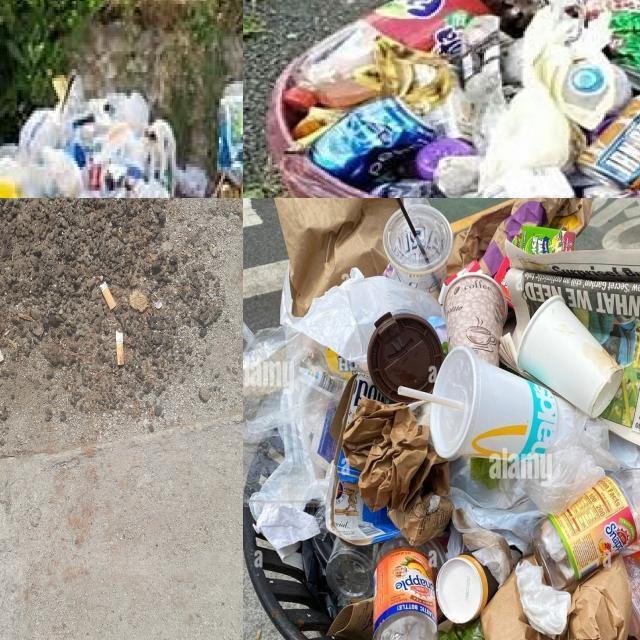Background: (0, 198, 243, 462)
Cig_bud: (99, 281, 116, 310), (116, 330, 124, 366)
Disposable: (431, 346, 587, 459), (518, 296, 622, 418), (367, 312, 444, 401), (383, 204, 453, 297), (444, 273, 507, 366), (435, 554, 498, 624), (326, 537, 375, 600)
Garbage: (243, 198, 640, 640), (283, 0, 640, 198), (0, 76, 176, 198)
Glass_bottle: (532, 470, 640, 590), (373, 539, 438, 640), (478, 0, 548, 37)
Plastic_Bag: (243, 327, 345, 555), (280, 267, 442, 366), (447, 456, 543, 584), (522, 411, 622, 513), (515, 559, 571, 637), (301, 527, 338, 619), (439, 619, 485, 640)
Plastic_Straw: (395, 198, 429, 262), (397, 386, 465, 410)
Plastic_bottle: (283, 0, 489, 119), (562, 53, 631, 130)
Plastic_wraper: (326, 447, 400, 544), (608, 10, 640, 88)
Tetrapack: (519, 224, 575, 255)
can: (306, 95, 435, 191), (578, 98, 640, 187)
contaminated_waste: (0, 71, 176, 198)
